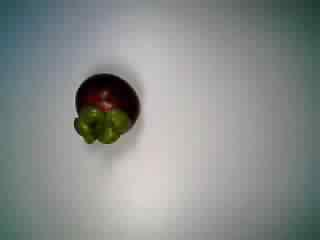mangosteen: (70, 70, 143, 147)
